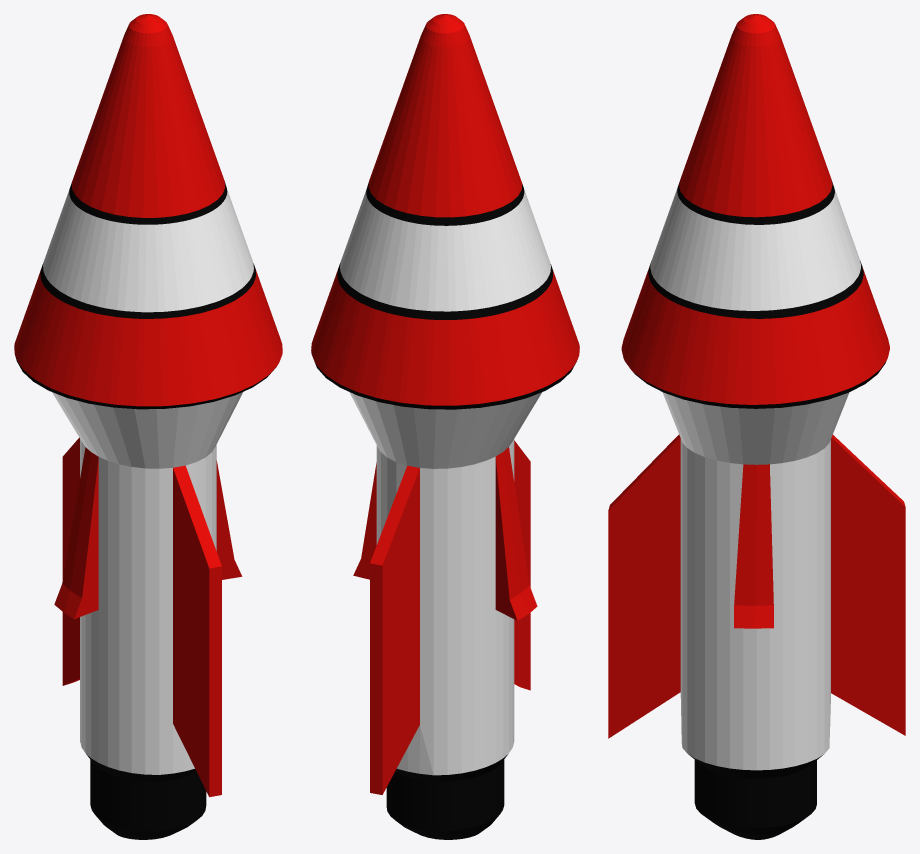
Rendered from ROCKET.fbx.
3 renders of one model, left to right at view 1: azimuth 30°, elevation 25°; view 2: azimuth 150°, elevation 25°; view 3: azimuth 270°, elevation 25°, orthographic.
Parts seen in each view (by area): view 1: rocket; view 2: rocket; view 3: rocket.
Part boxes in pixels (left/top/right/bottom): rocket: left=14, top=14, right=282, bottom=839; rocket: left=311, top=14, right=579, bottom=839; rocket: left=608, top=14, right=905, bottom=839.
Size of the model in its own units: 29.33 by 97.71 by 32.56.
